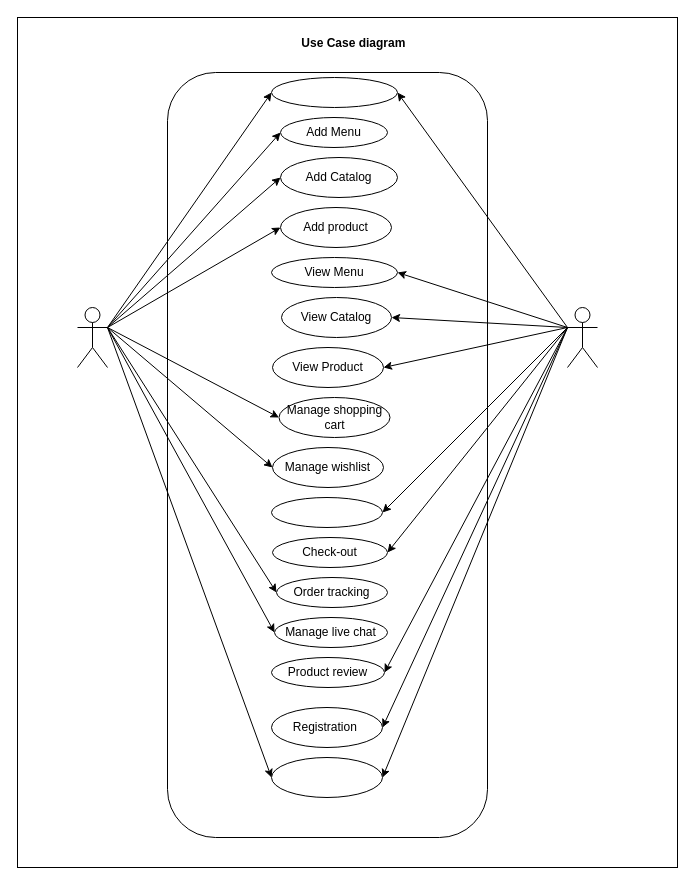
Some shapes in this 695 by 885 pixel diagram are drawn without their labels. The shapes that lost their labels are listed below. From the top down, each one's centre as x and y in pixels, then its label:
the point at 334,92: Login
the point at 92,337: Admin
the point at 582,337: User
the point at 326,512: Place order
the point at 326,777: Report to admin
